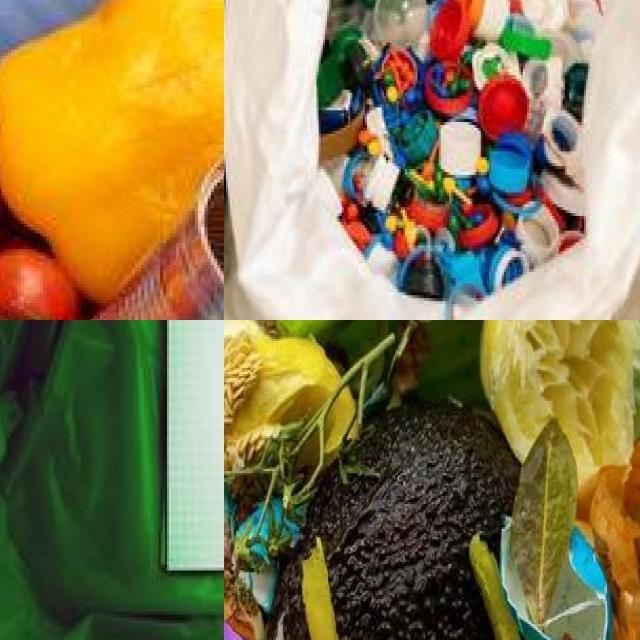Garbage: (224, 320, 640, 640), (316, 0, 603, 305)
Metal: (94, 162, 224, 320)
Paper: (166, 320, 224, 570)
Plastic: (318, 0, 603, 320)
contaminated_waste: (94, 162, 224, 320)
top_view_waste: (0, 320, 224, 640)
